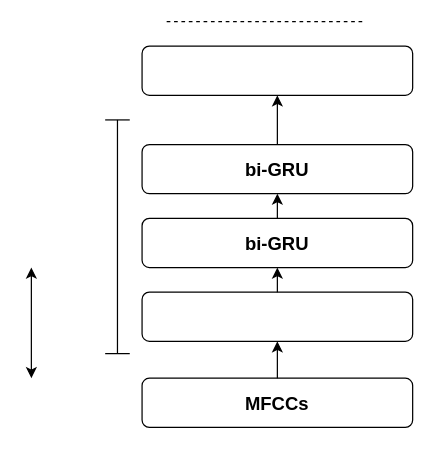
This 434x449 diagram has some shape labels left out. The shapes that lost their labels are listed below. From the top down, each one's box as (x1, y1, x2, y2) in pixels, then its label:
(141, 45, 413, 95): CTC
(141, 291, 413, 341): Conv1D
